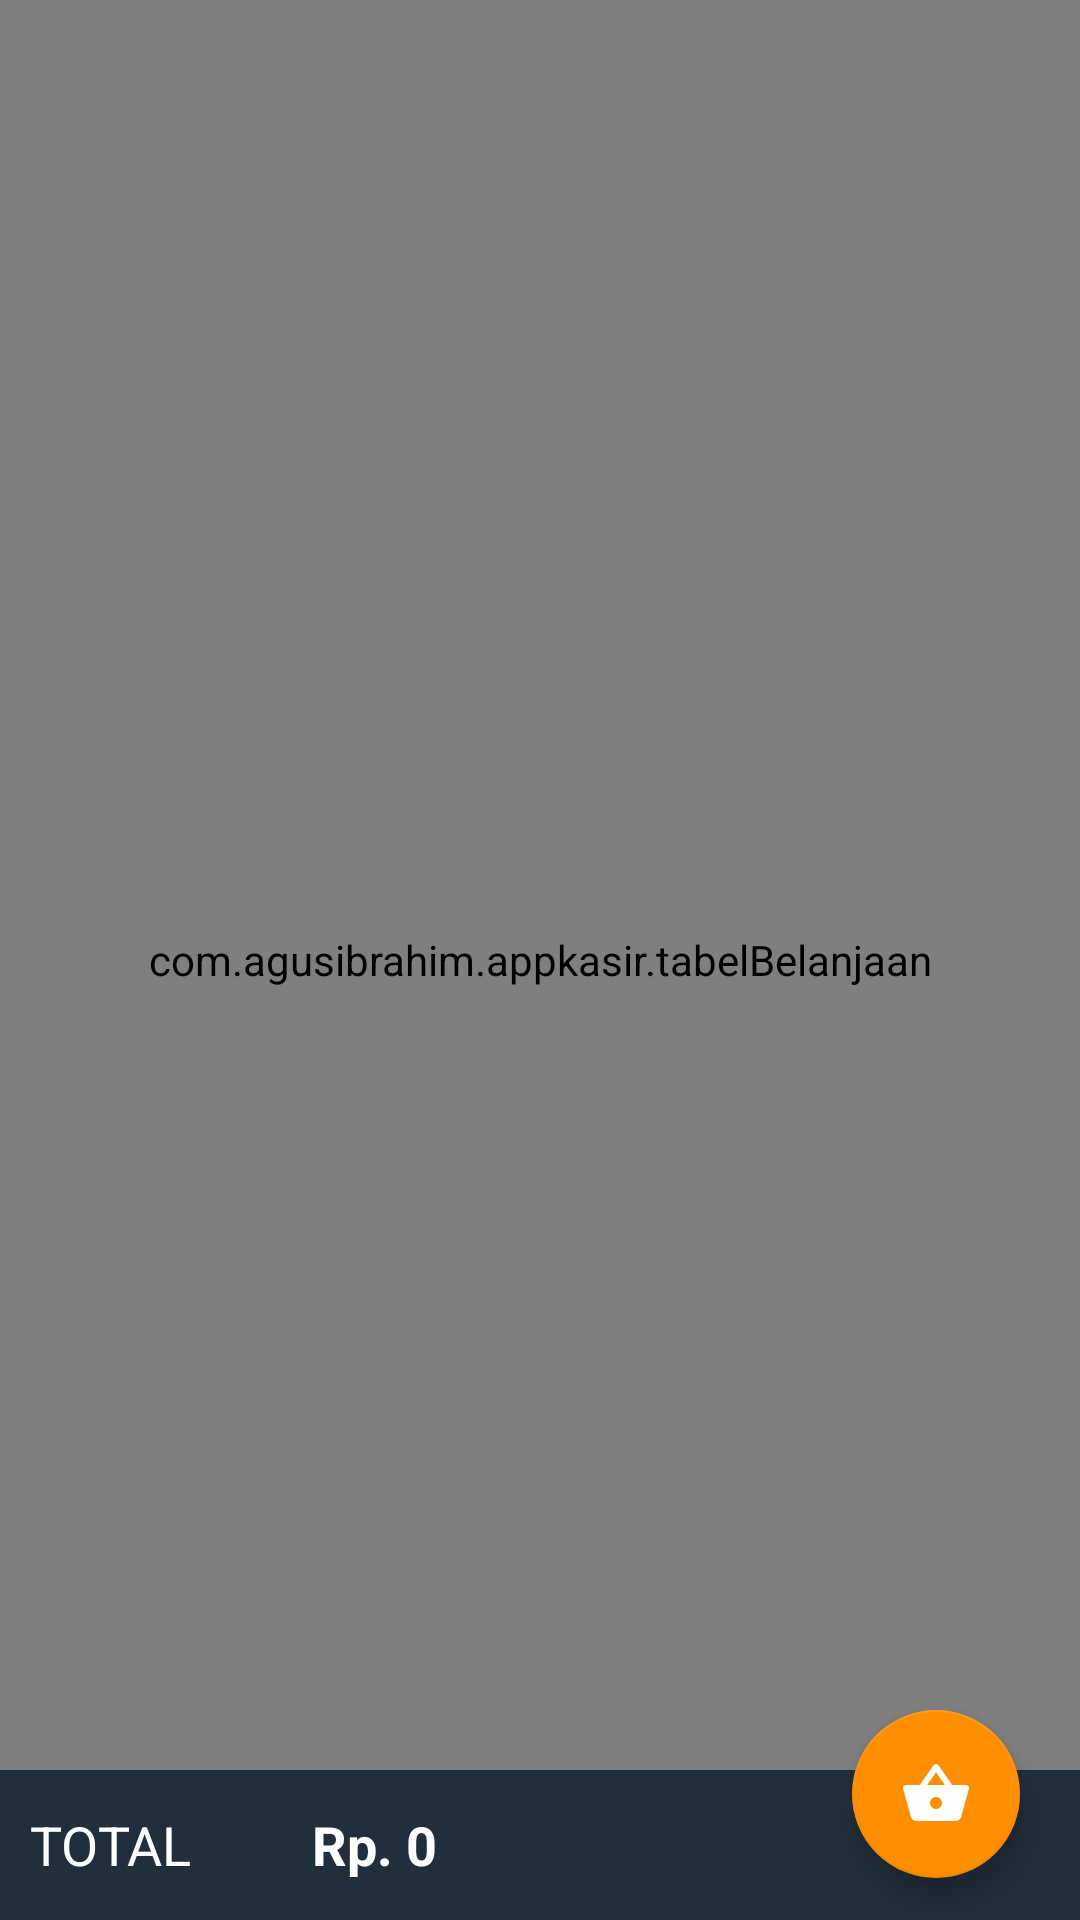

Where to tap for icons on this 1080px x 1920px app screen, as [x,y]:
basket: [936,1794]
